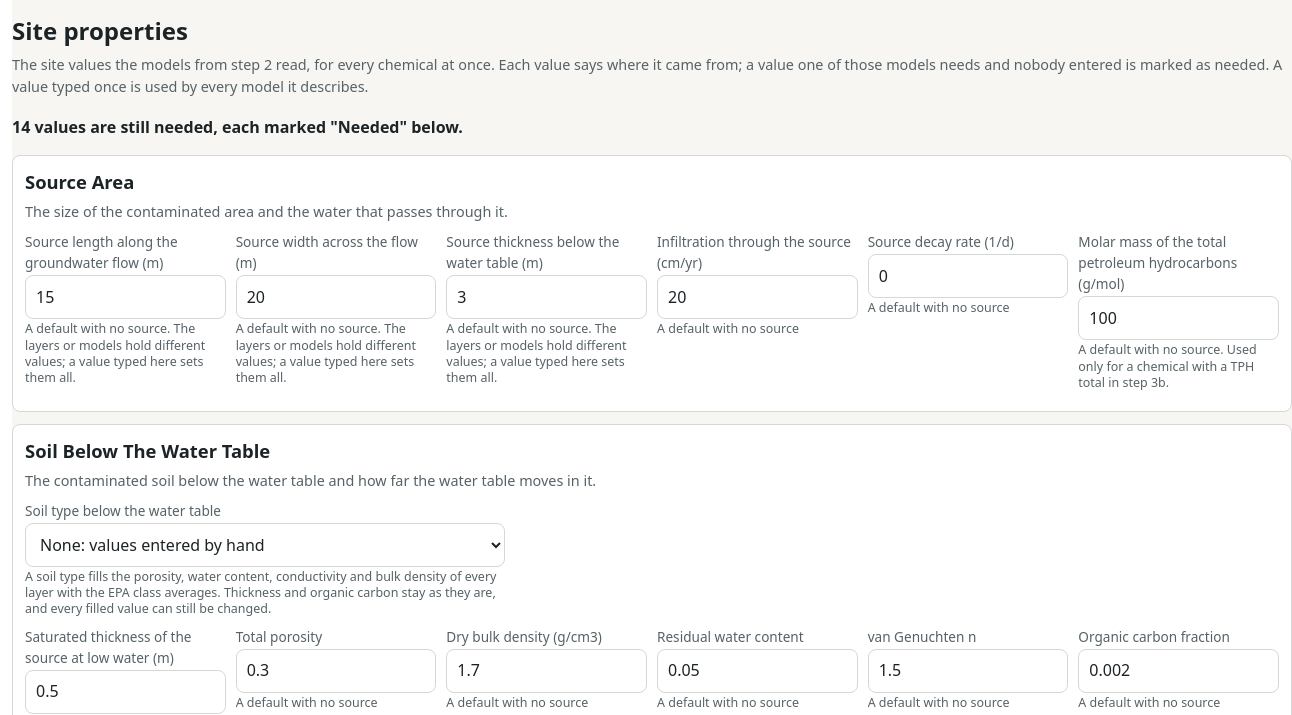
Test: PropertiesStep › writes a shared value to every model it stands for
The image size is (1292, 715).
Replace the text in the field labelled "Source length along the groundwater flow (m)" with "25": [125, 297] box x1=25 y1=275 x2=226 y2=319
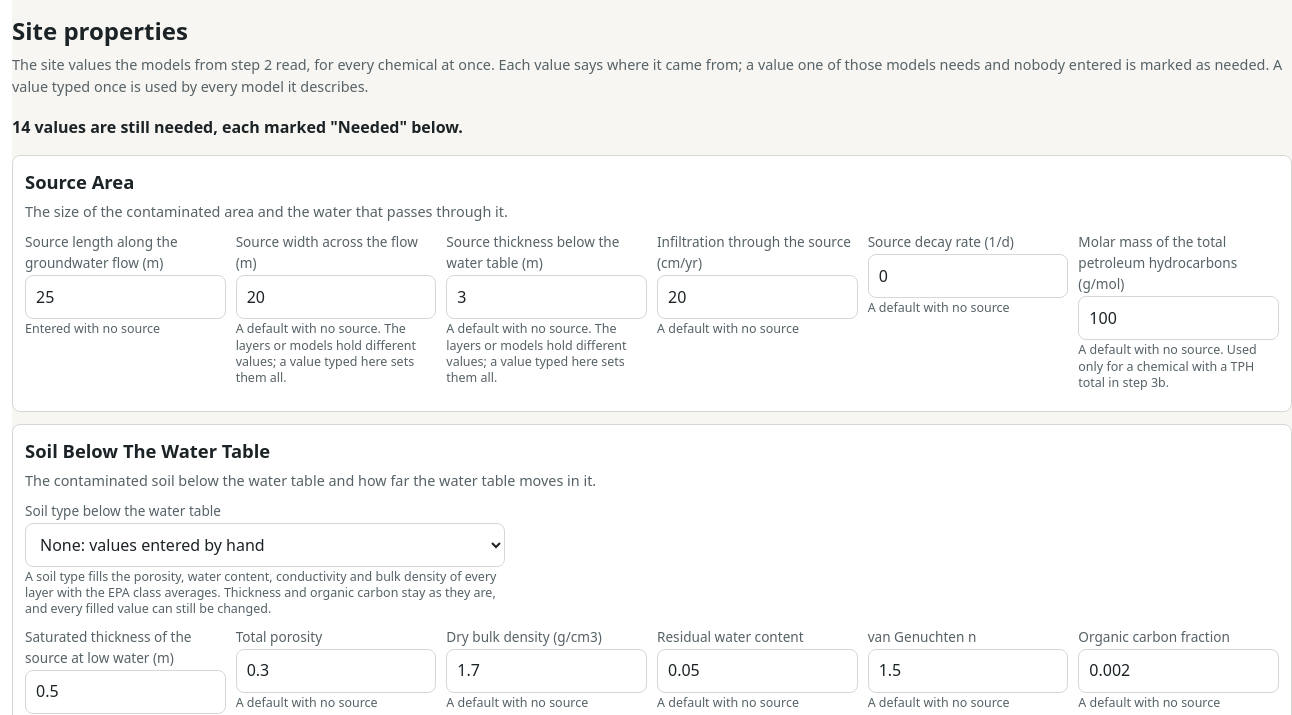
Now the text "Entered with no source" is shown, box x1=25 y1=320 x2=160 y2=337
